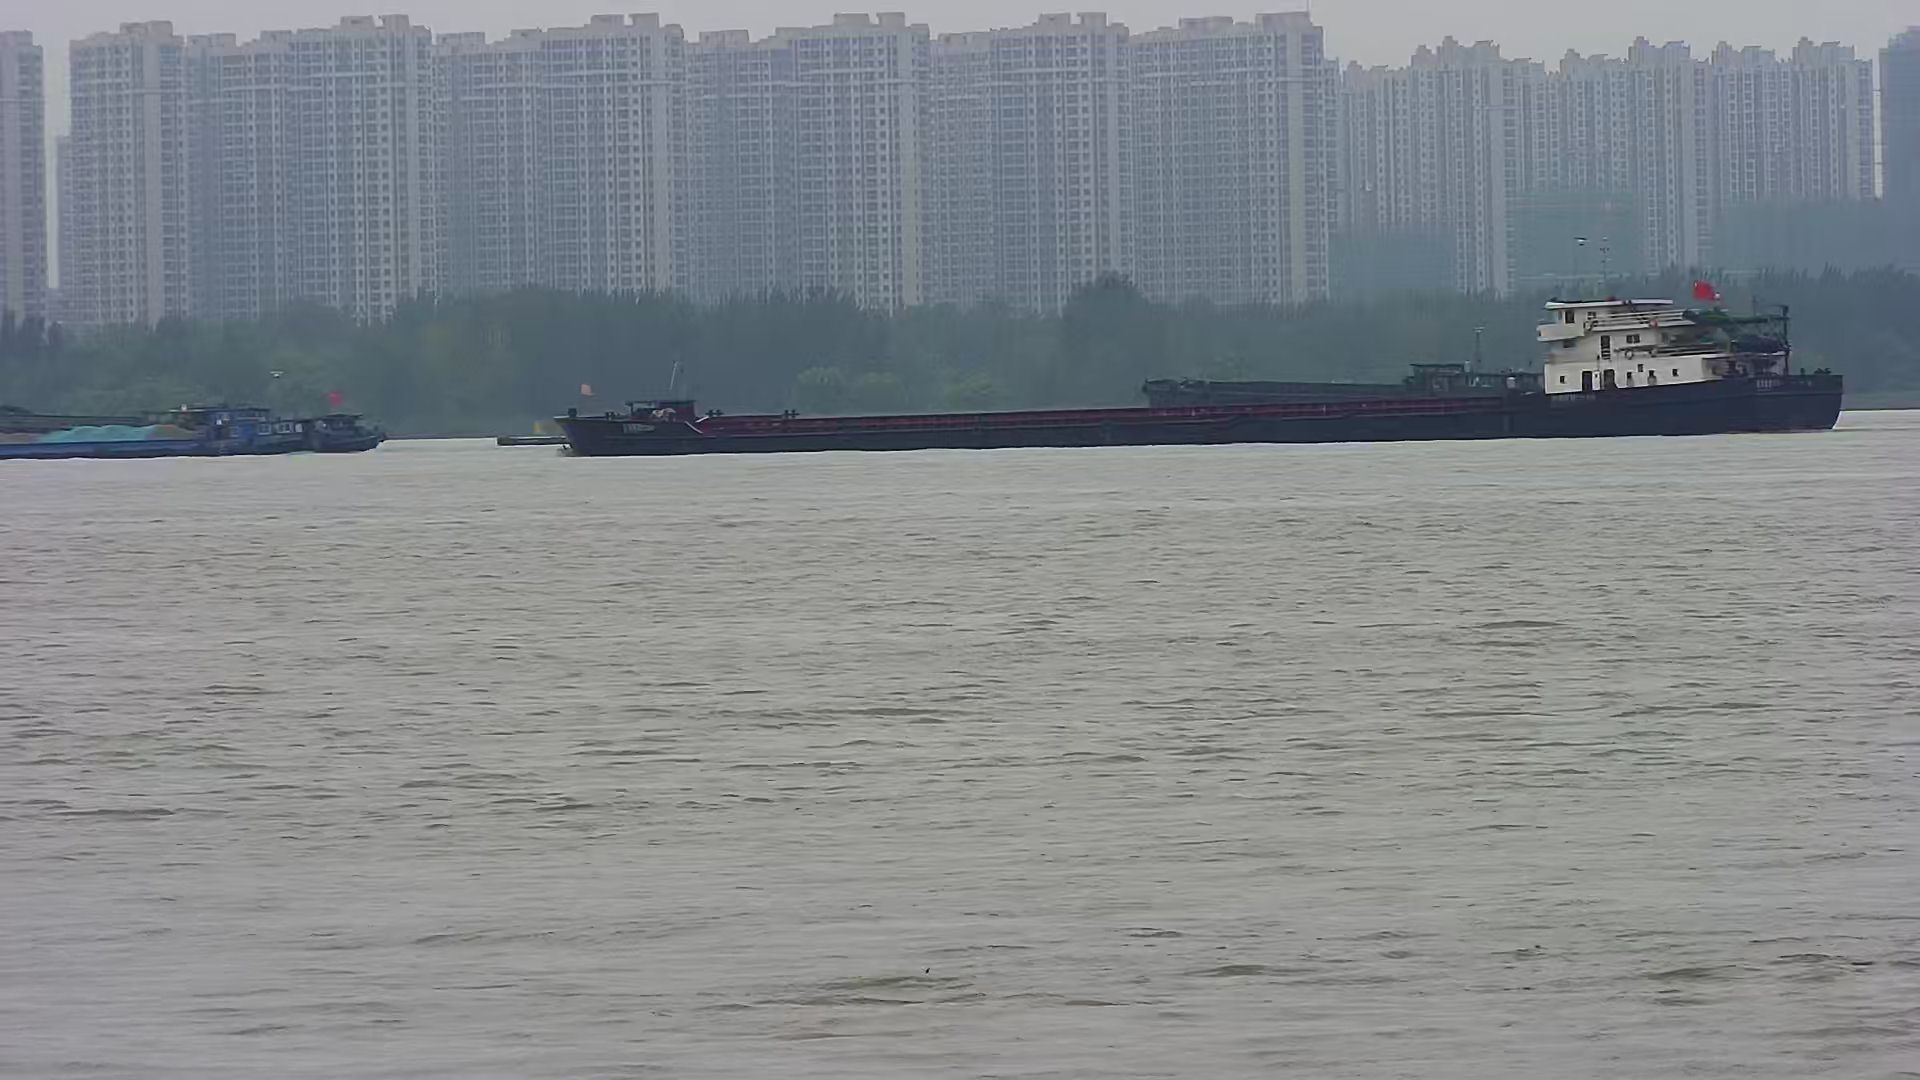boat: (487, 417, 576, 442)
ship: (555, 280, 1840, 456), (1135, 349, 1539, 436), (4, 386, 385, 458)
